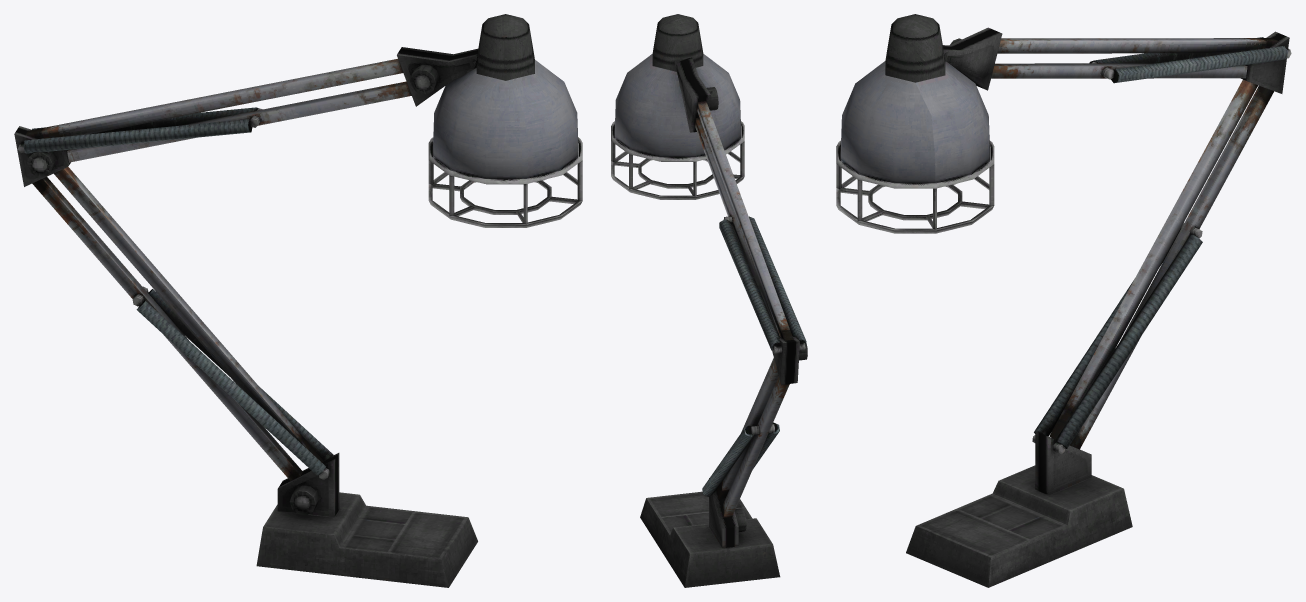
File: table_lamp-m.obj
3 renders of one model, left to right at view 1: azimuth 30°, elevation 25°; view 2: azimuth 150°, elevation 25°; view 3: azimuth 270°, elevation 25°, orthographic. The views are drawn at different scales.
Visible parts, largest first — view 1: OBJ_Table_Lamp; view 2: OBJ_Table_Lamp; view 3: OBJ_Table_Lamp.
Part boxes in pixels (x1=…): OBJ_Table_Lamp: x1=14, y1=14, x2=582, y2=587; OBJ_Table_Lamp: x1=611, y1=14, x2=807, y2=587; OBJ_Table_Lamp: x1=836, y1=14, x2=1291, y2=587.
Size of the model in its own units: 3.68 by 5.06 by 3.68.
1 material, 1 textured.
